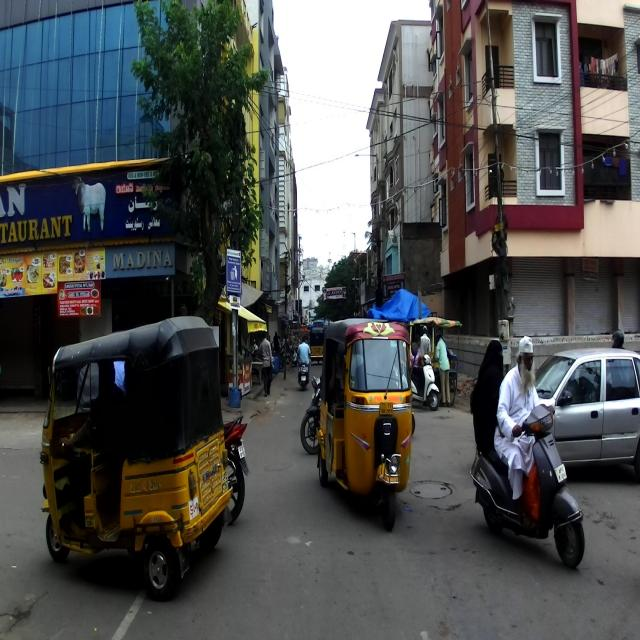autorickshaw: (38, 316, 230, 596), (316, 317, 417, 532)
car: (533, 346, 640, 481)
motorcycle: (221, 412, 250, 526)
scooter: (466, 407, 581, 570)
